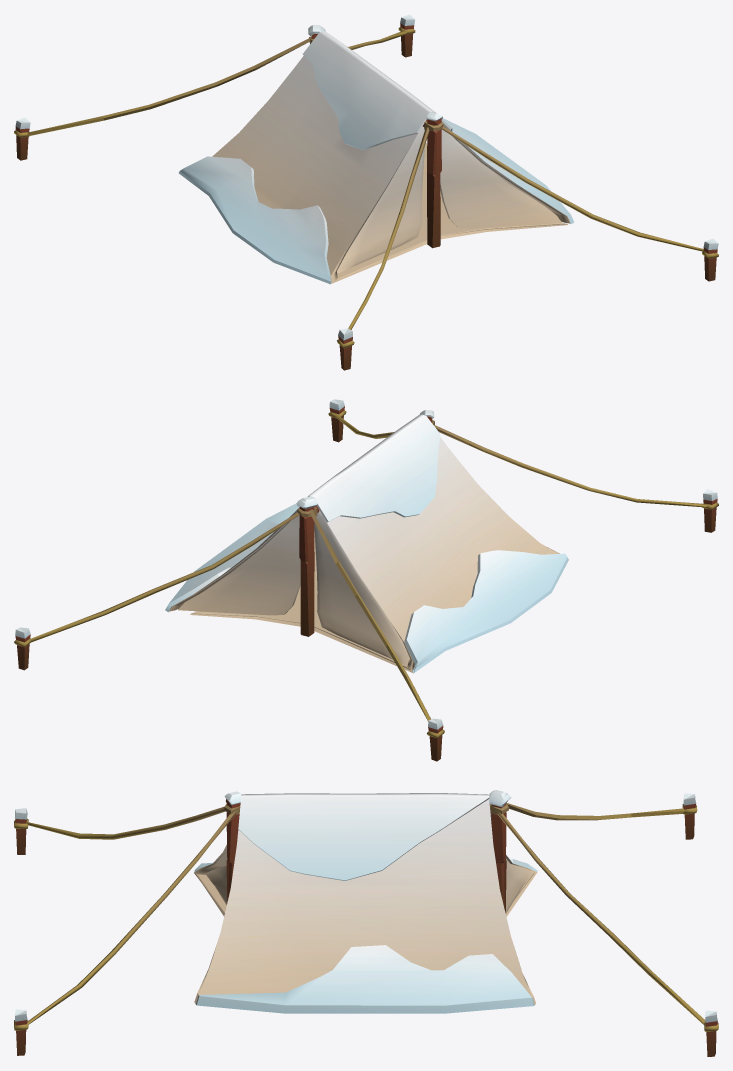
The picture shows the model from 3 angles, top to bottom: view 1: azimuth 30°, elevation 25°; view 2: azimuth 150°, elevation 25°; view 3: azimuth 270°, elevation 25°; orthographic projection. The views are drawn at different scales.
Parts seen in each view (by area): view 1: SnowyTent; view 2: SnowyTent; view 3: SnowyTent.
Boxes of the visible parts, bbox=[...] form: SnowyTent: bbox=[14, 14, 718, 370]; SnowyTent: bbox=[14, 399, 718, 761]; SnowyTent: bbox=[14, 790, 718, 1056].
Bounding box in the file's own units: 180 × 60.52 × 240.
Materials: 1 (1 with a texture image).
